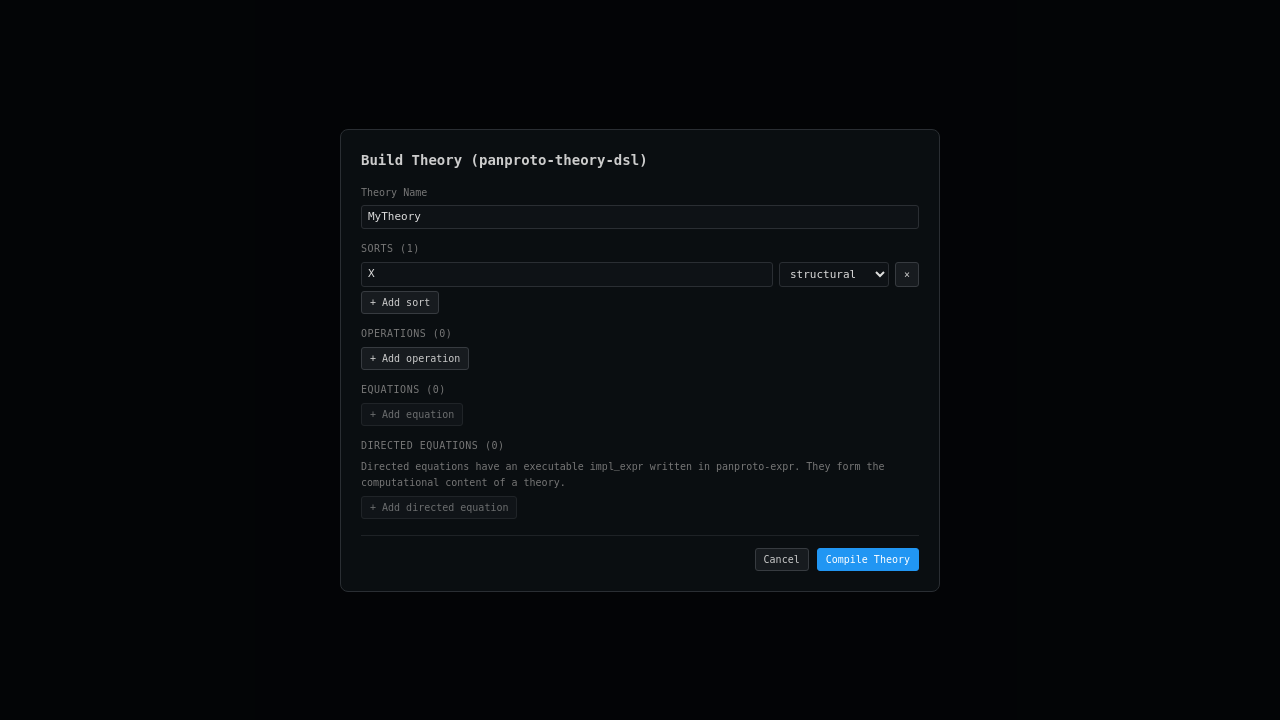
Test case: TheoryEditor › add sort button adds a row with name and kind fields
The width and height of the screenshot is (1280, 720).
Expected: the text "Sorts (1)" is shown, x1=361 y1=243 x2=420 y2=254
Click the button "+ Add sort" at (400, 302), box x1=361 y1=290 x2=439 y2=314
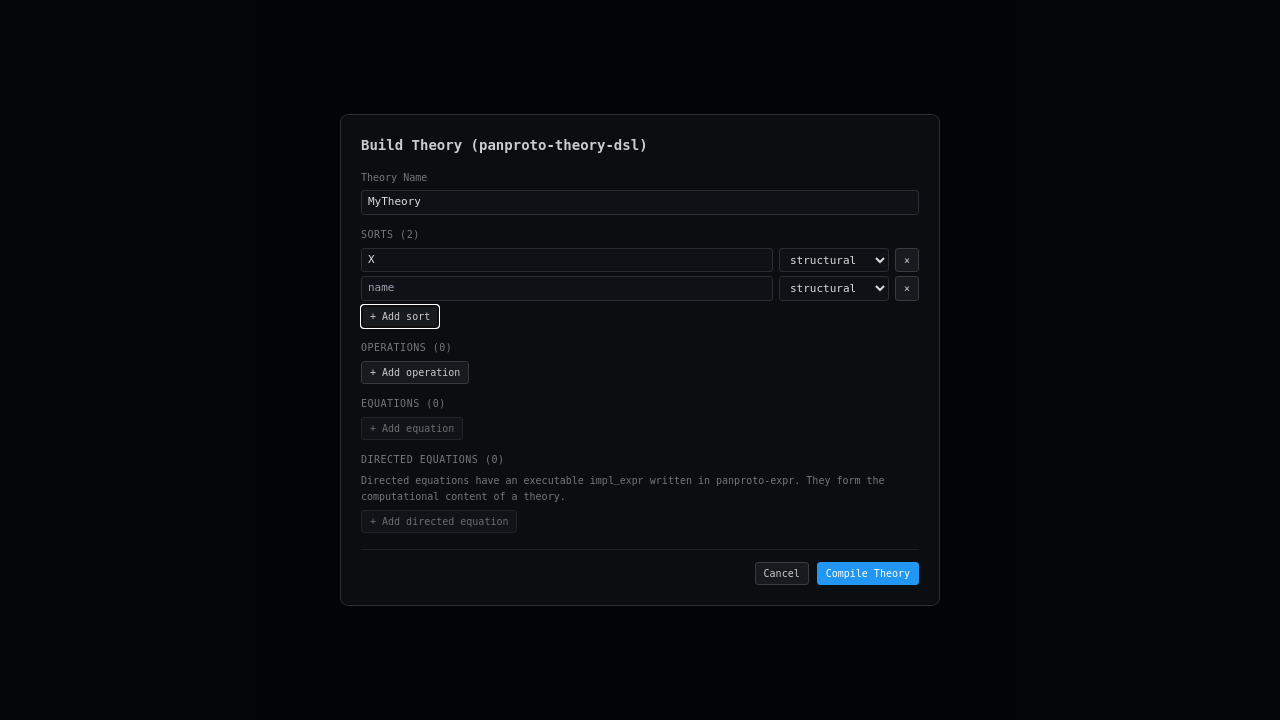
Expected: the text "Sorts (2)" is shown, x1=361 y1=229 x2=420 y2=240
